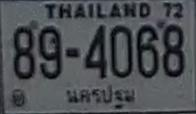0: (110, 24, 132, 78)
4: (84, 24, 106, 78)
6: (136, 24, 158, 77)
8: (12, 24, 35, 78), (162, 24, 184, 76)
9: (38, 25, 61, 78)
NPT: (64, 83, 138, 108)
